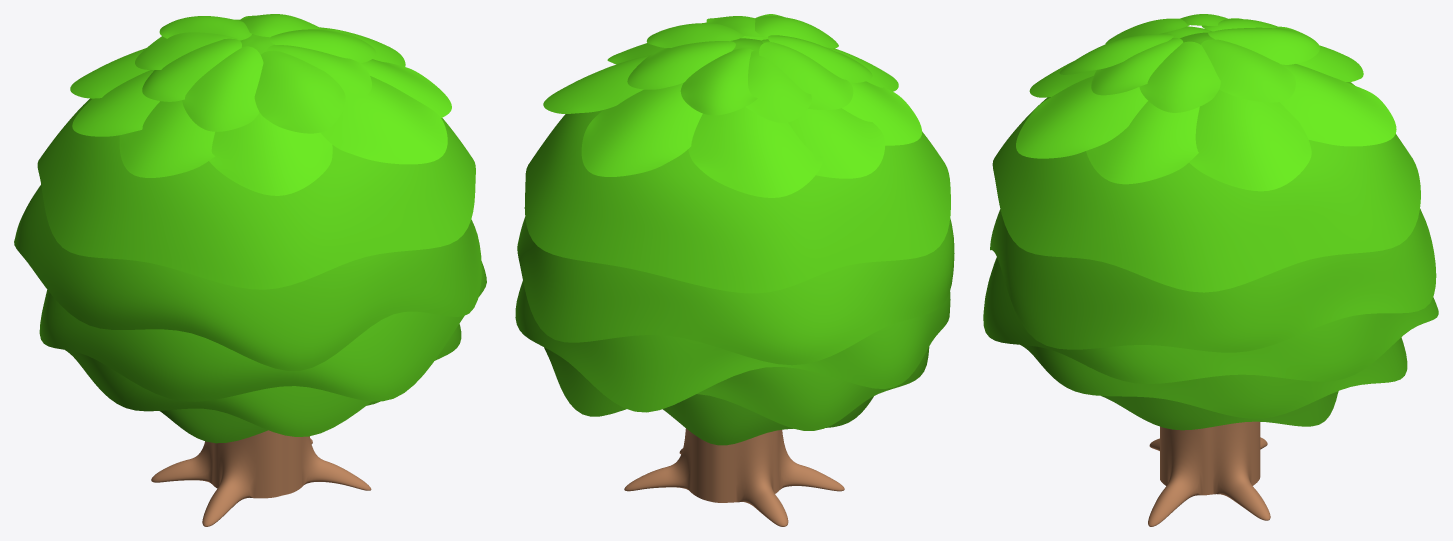
The model's file is Shoot That Bird! Small Circle Tree.fbx.
3 renders of one model, left to right at view 1: azimuth 30°, elevation 25°; view 2: azimuth 150°, elevation 25°; view 3: azimuth 270°, elevation 25°, orthographic.
Visible parts, largest first — view 1: Ball Tree Top Cover 1.002, Ball Tree Top Cover 2.002, Ball Tree Top Cap.002, Ball Tree Top Cover 3.002, Ball Tree Root.001, Ball Tree Top Cover 4.002, Ball Tree Top Leaf 8.002, Ball Tree Top Leaf 1.002, Ball Tree Top Leaf 2.002, Ball Tree Top Leaf 3.002, Ball Tree Top Cover 5.002, Ball Tree Top Leaf 7.002 (+2 smaller); view 2: Ball Tree Top Cover 1.002, Ball Tree Top Cover 2.002, Ball Tree Top Cap.002, Ball Tree Top Cover 3.002, Ball Tree Top Cover 4.002, Ball Tree Root.001, Ball Tree Top Leaf 4.002, Ball Tree Top Leaf 5.002, Ball Tree Top Leaf 3.002, Ball Tree Top Cover 5.002, Ball Tree Top Leaf 6.002, Ball Tree Top Leaf 2.002 (+2 smaller); view 3: Ball Tree Top Cover 1.002, Ball Tree Top Cover 2.002, Ball Tree Top Cap.002, Ball Tree Top Cover 3.002, Ball Tree Top Cover 4.002, Ball Tree Top Leaf 6.002, Ball Tree Root.001, Ball Tree Top Leaf 8.002, Ball Tree Top Leaf 5.002, Ball Tree Top Leaf 7.002, Ball Tree Top Cover 5.002, Ball Tree Top Leaf 4.002 (+1 smaller).
Part boxes in pixels (x1,y1,x2,y2): Ball Tree Top Cover 1.002: (37, 34, 475, 289); Ball Tree Top Cover 2.002: (14, 185, 481, 370); Ball Tree Top Cap.002: (135, 14, 376, 133); Ball Tree Top Cover 3.002: (39, 261, 486, 401); Ball Tree Root.001: (151, 430, 371, 526); Ball Tree Top Cover 4.002: (65, 324, 461, 436); Ball Tree Top Leaf 8.002: (320, 76, 447, 164); Ball Tree Top Leaf 1.002: (209, 111, 332, 195); Ball Tree Top Leaf 2.002: (119, 100, 215, 177); Ball Tree Top Leaf 3.002: (72, 70, 159, 136); Ball Tree Top Cover 5.002: (160, 401, 380, 443); Ball Tree Top Leaf 7.002: (361, 59, 451, 117); Ball Tree Top Cover 1.002: (524, 38, 950, 293); Ball Tree Top Cover 2.002: (517, 217, 954, 365); Ball Tree Top Cap.002: (627, 14, 872, 122); Ball Tree Top Cover 3.002: (515, 281, 950, 412); Ball Tree Top Cover 4.002: (544, 347, 929, 430); Ball Tree Root.001: (624, 428, 844, 526); Ball Tree Top Leaf 4.002: (688, 107, 822, 197); Ball Tree Top Leaf 5.002: (581, 83, 702, 176); Ball Tree Top Leaf 3.002: (788, 108, 885, 178); Ball Tree Top Cover 5.002: (663, 394, 873, 445); Ball Tree Top Leaf 6.002: (543, 55, 649, 113); Ball Tree Top Leaf 2.002: (842, 81, 921, 145); Ball Tree Top Cover 1.002: (992, 32, 1420, 292); Ball Tree Top Cover 2.002: (990, 208, 1436, 352); Ball Tree Top Cap.002: (1059, 14, 1319, 112); Ball Tree Top Cover 3.002: (983, 257, 1438, 383); Ball Tree Top Cover 4.002: (1021, 337, 1407, 418); Ball Tree Top Leaf 6.002: (1189, 90, 1311, 191); Ball Tree Root.001: (1148, 421, 1270, 526); Ball Tree Top Leaf 8.002: (1016, 76, 1147, 158); Ball Tree Top Leaf 5.002: (1280, 64, 1396, 146); Ball Tree Top Leaf 7.002: (1086, 101, 1199, 184); Ball Tree Top Cover 5.002: (1101, 391, 1338, 430); Ball Tree Top Leaf 4.002: (1296, 45, 1363, 81).
Bounding box in the file's own units: 1376 × 1511 × 1385.
